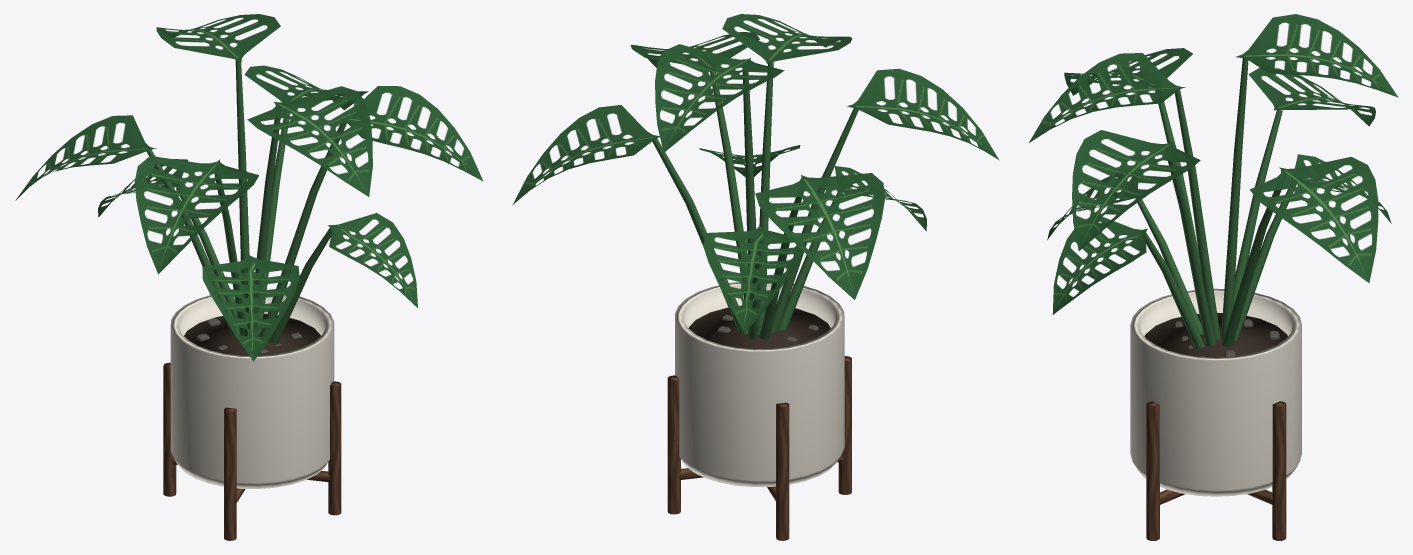
The model's file is obj_plant_monstera_deliciosa.glb.
The picture shows the model from 3 angles, left to right: view 1: azimuth 30°, elevation 25°; view 2: azimuth 150°, elevation 25°; view 3: azimuth 270°, elevation 25°; orthographic projection. The views are drawn at different scales.
Visible parts, largest first — view 1: obj_plant_monstera_deliciosa; view 2: obj_plant_monstera_deliciosa; view 3: obj_plant_monstera_deliciosa.
Boxes of the visible parts, x1=… form: obj_plant_monstera_deliciosa: x1=15, y1=14, x2=483, y2=540; obj_plant_monstera_deliciosa: x1=512, y1=14, x2=998, y2=540; obj_plant_monstera_deliciosa: x1=1029, y1=14, x2=1398, y2=540.
Bounding box in the file's own units: 0.8138 × 1.06 × 0.7556.
Materials: 6 (2 with a texture image).
